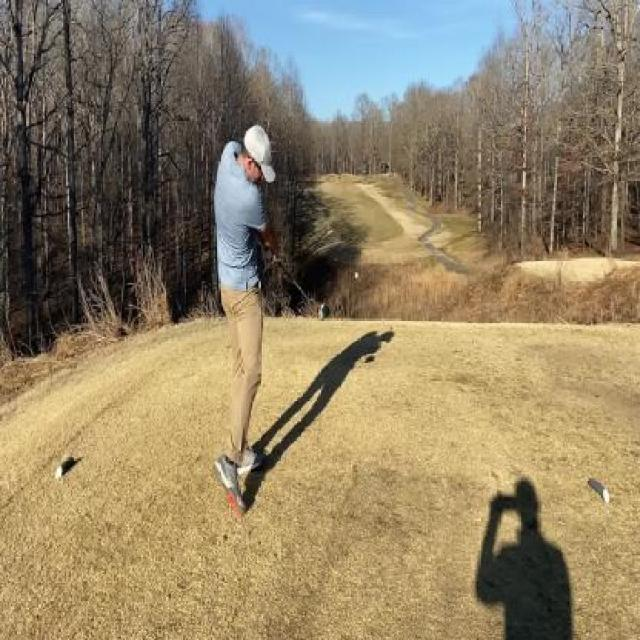club head: (315, 303, 330, 320)
